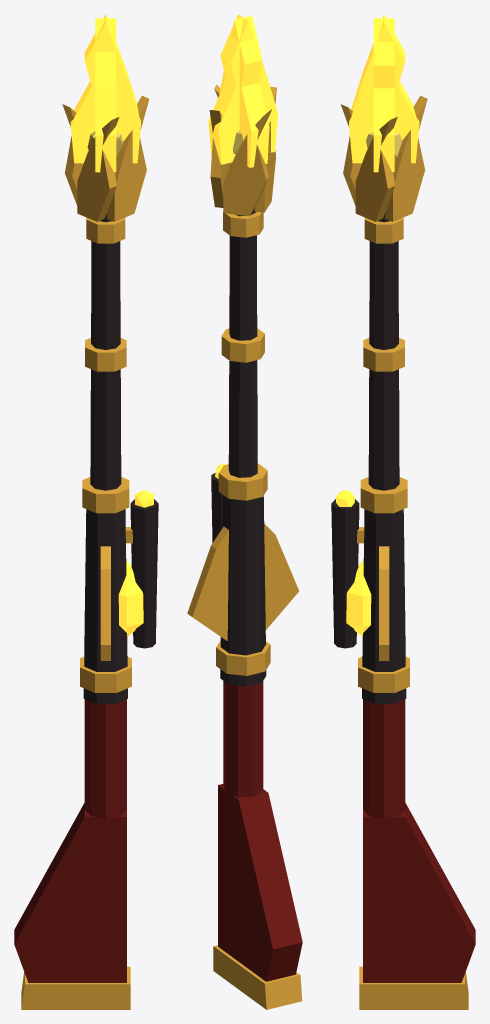
Rendered from S4_Fire_Lance.fbx.
3 renders of one model, left to right at view 1: azimuth 90°, elevation 25°; view 2: azimuth 210°, elevation 25°; view 3: azimuth 270°, elevation 25°, orthographic. The views are drawn at different scales.
Visible parts, largest first — view 1: S4_Fire_Lance; view 2: S4_Fire_Lance; view 3: S4_Fire_Lance.
Boxes of the visible parts, x1=… form: S4_Fire_Lance: x1=14, y1=14, x2=158, y2=1009; S4_Fire_Lance: x1=187, y1=14, x2=302, y2=1009; S4_Fire_Lance: x1=331, y1=14, x2=475, y2=1009.
Bounding box in the file's own units: 0.18 × 1.54 × 0.205.
